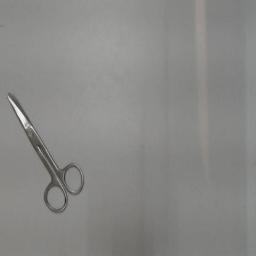Dressing Scissors: (2, 82, 90, 218)
